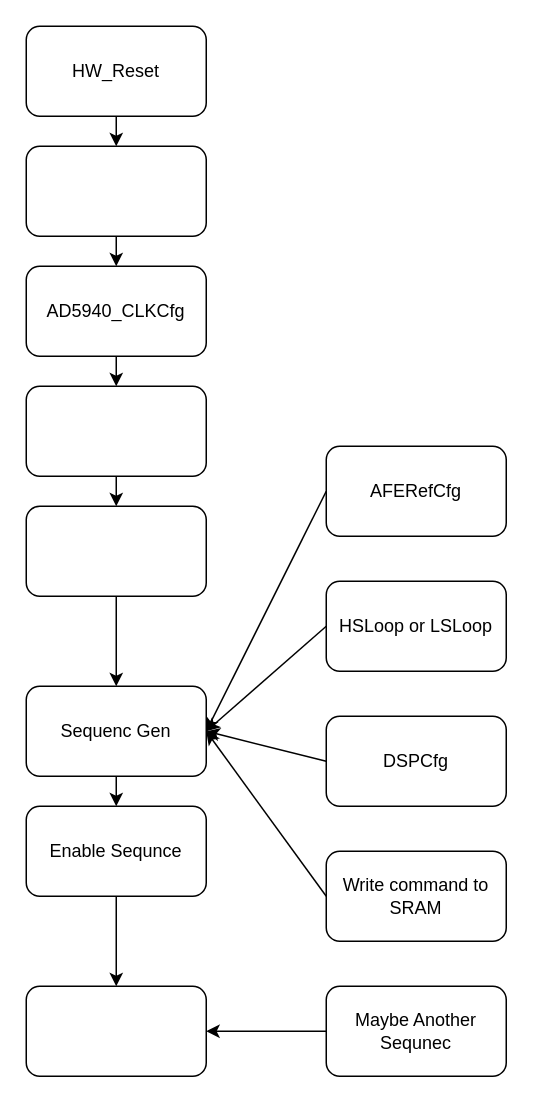
This 533x1103 diagram has some shape labels left out. The centre of each missing label's shape, as x and y in pixels:
"AD5940_FIFOCfg" belongs at (x=115, y=430).
"Get Rsult" belongs at (x=115, y=1030).
"GPIOCfg" belongs at (x=115, y=550).
"Initialization" belongs at (x=115, y=190).
